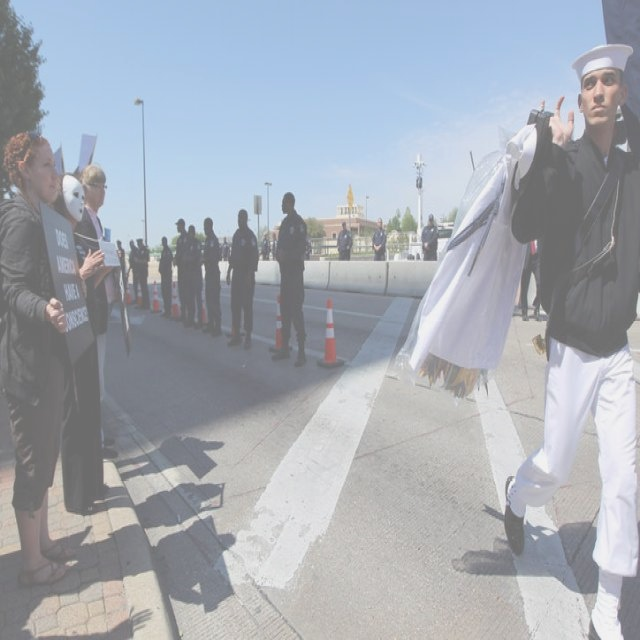pessoa: (500, 36, 639, 639), (0, 128, 95, 589), (52, 170, 106, 516), (72, 163, 121, 460), (94, 428, 228, 532), (270, 188, 308, 368), (224, 207, 260, 351), (199, 214, 224, 339), (182, 223, 204, 329), (172, 217, 192, 326), (519, 238, 541, 322), (157, 234, 175, 320), (134, 237, 152, 314), (127, 238, 143, 308), (420, 212, 440, 262), (370, 216, 388, 260), (114, 238, 128, 294), (336, 219, 353, 261), (258, 230, 272, 261), (220, 235, 232, 262), (270, 230, 278, 262), (404, 247, 420, 261), (305, 236, 312, 260), (70, 165, 82, 178)
